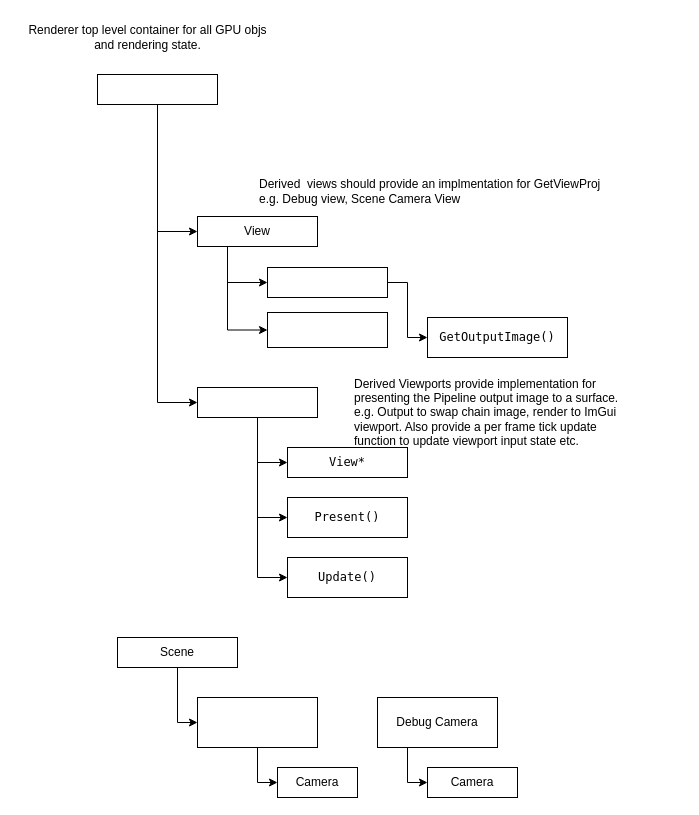
The diagram is 699 pixels wide and 815 high, and some of its shapes have lost their labels. Each missing label, with the centre of its shape:
"Camera Component" goes at pixel 257 722.
"GetViewProj();" goes at pixel 327 330.
"Pipeline" goes at pixel 327 282.
"Renderer" goes at pixel 157 89.
"Viewport" goes at pixel 257 402.
